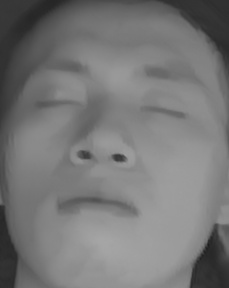blink: (139, 93, 199, 126), (33, 90, 88, 119)
mouth: (47, 180, 147, 230)
